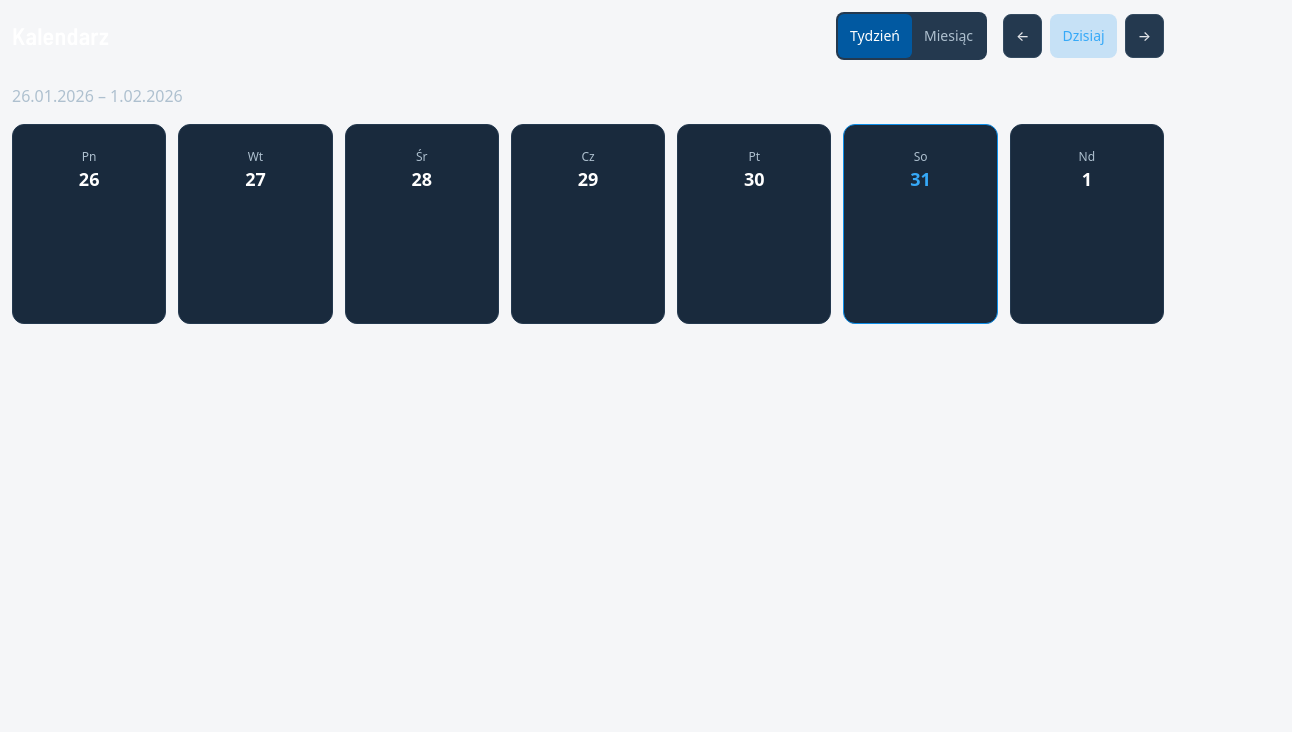
calendar and live local date › does not skip February when navigating from January 31
Click the button "Miesiąc" at (949, 36), box left=912, top=14, right=985, bottom=58
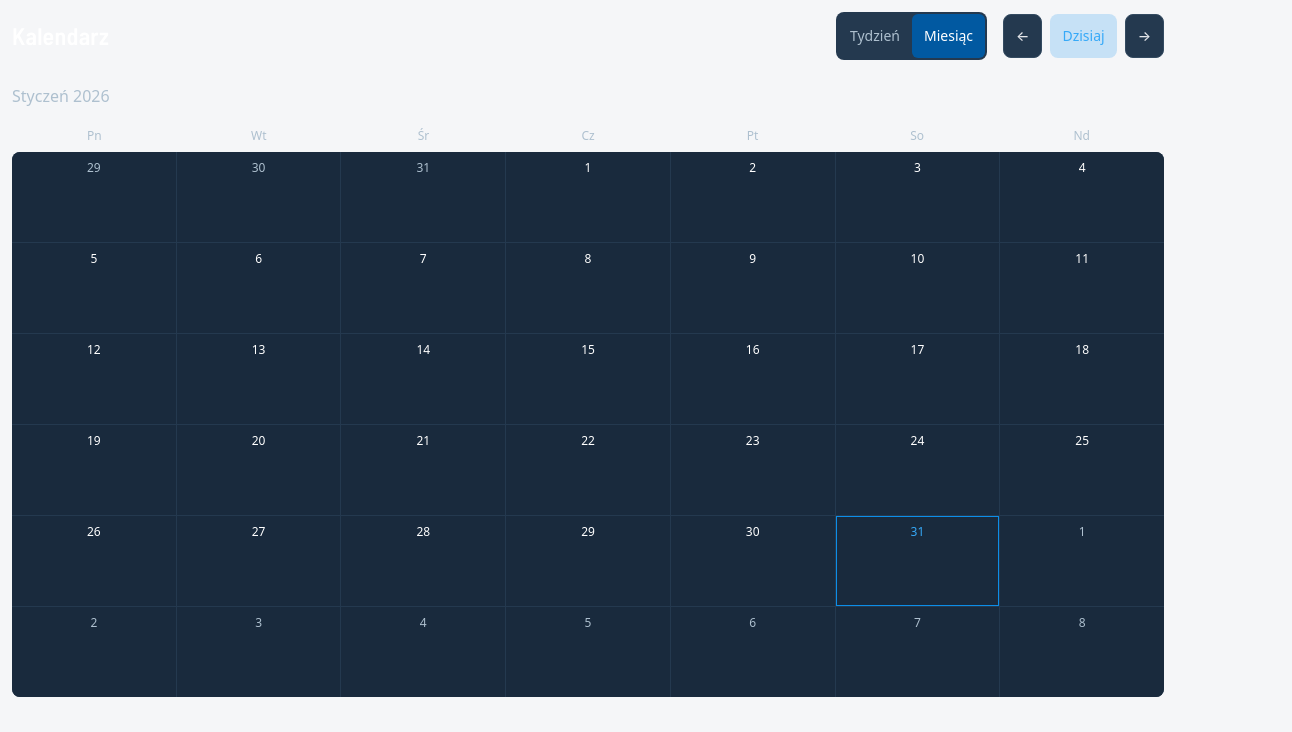
Click the button named "Następny miesiąc" at (1144, 36), box left=1125, top=14, right=1164, bottom=58
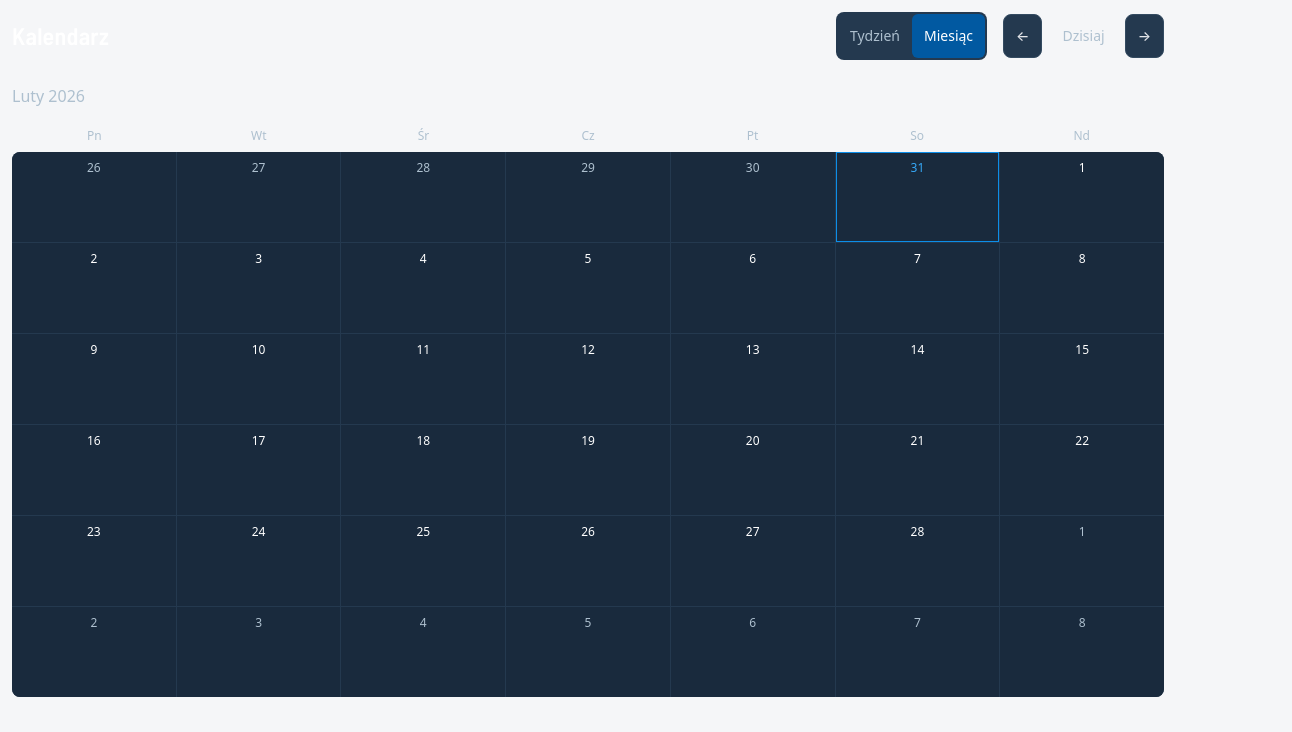
Now the text "Luty 2026" is shown, box left=12, top=85, right=85, bottom=107
